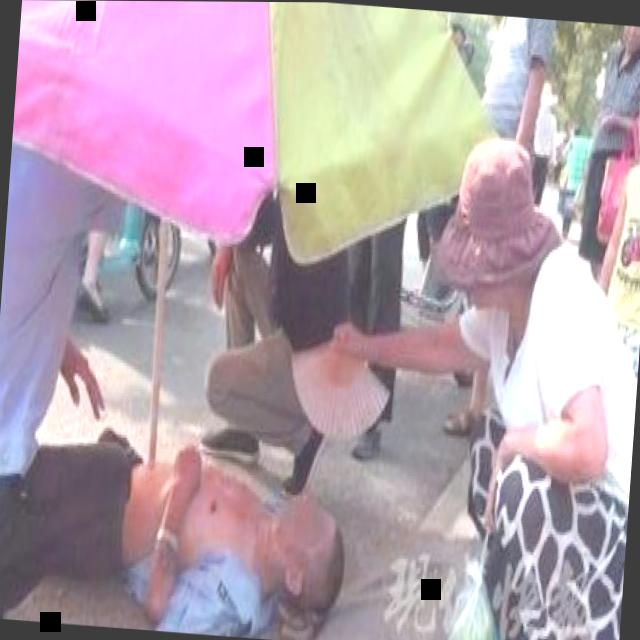Fall-Detected: (0, 385, 360, 640)
